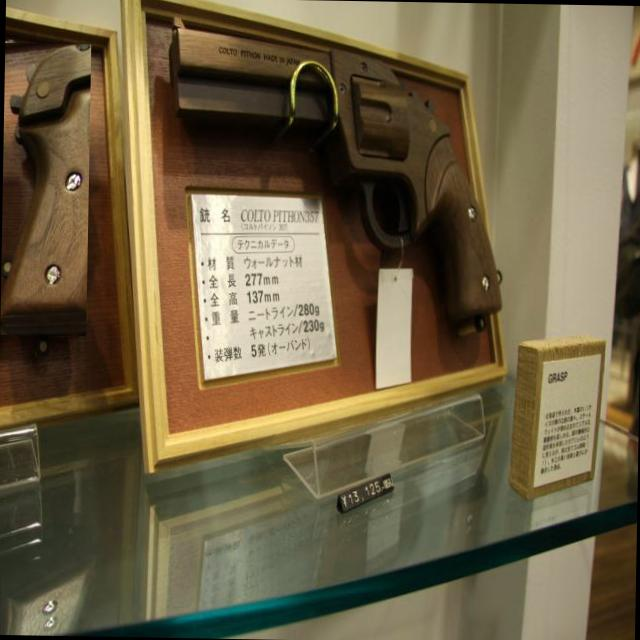Gun: (170, 27, 500, 331), (0, 44, 91, 335)
